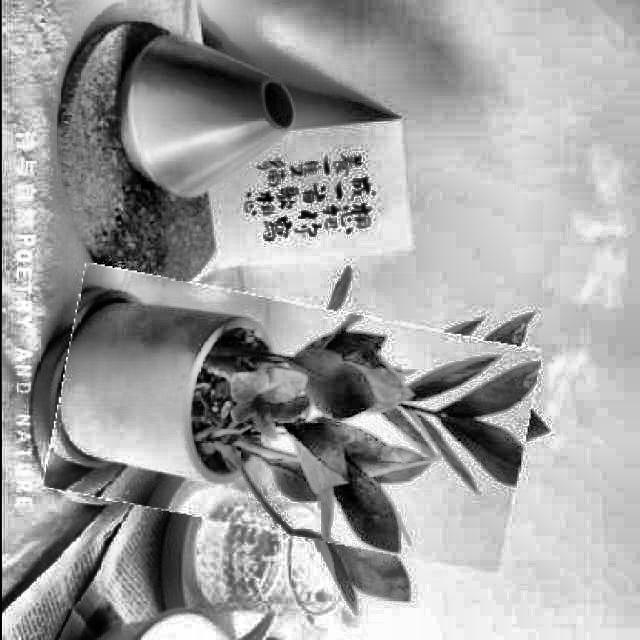plants: (50, 284, 532, 553)
